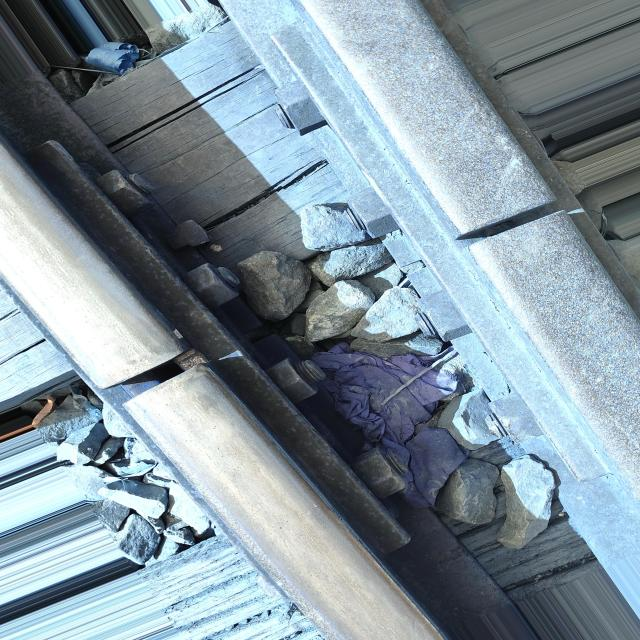crack: (426, 174, 593, 272), (48, 337, 235, 413)
